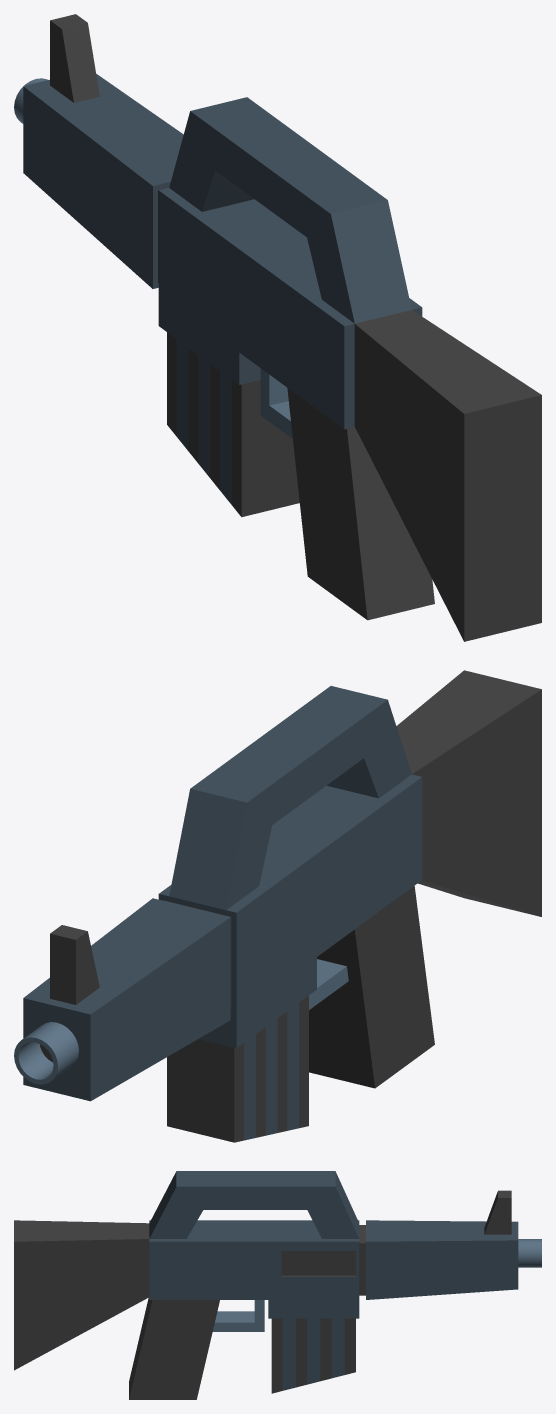
Rendered from machinegun.fbx.
The picture shows the model from 3 angles, top to bottom: view 1: azimuth 30°, elevation 25°; view 2: azimuth 150°, elevation 25°; view 3: azimuth 270°, elevation 25°; orthographic projection. The views are drawn at different scales.
Parts seen in each view (by area): view 1: machinegun, Group; view 2: machinegun, Group; view 3: machinegun, Group.
Boxes of the visible parts, left/top/right/bottom form: machinegun: left=14, top=14, right=541, bottom=641; Group: left=167, top=332, right=299, bottom=517; machinegun: left=14, top=670, right=541, bottom=1101; Group: left=167, top=996, right=308, bottom=1142; machinegun: left=14, top=1171, right=541, bottom=1399; Group: left=271, top=1318, right=355, bottom=1393.
Bounding box in the file's own units: 0.5742 × 2.64 × 5.97.
